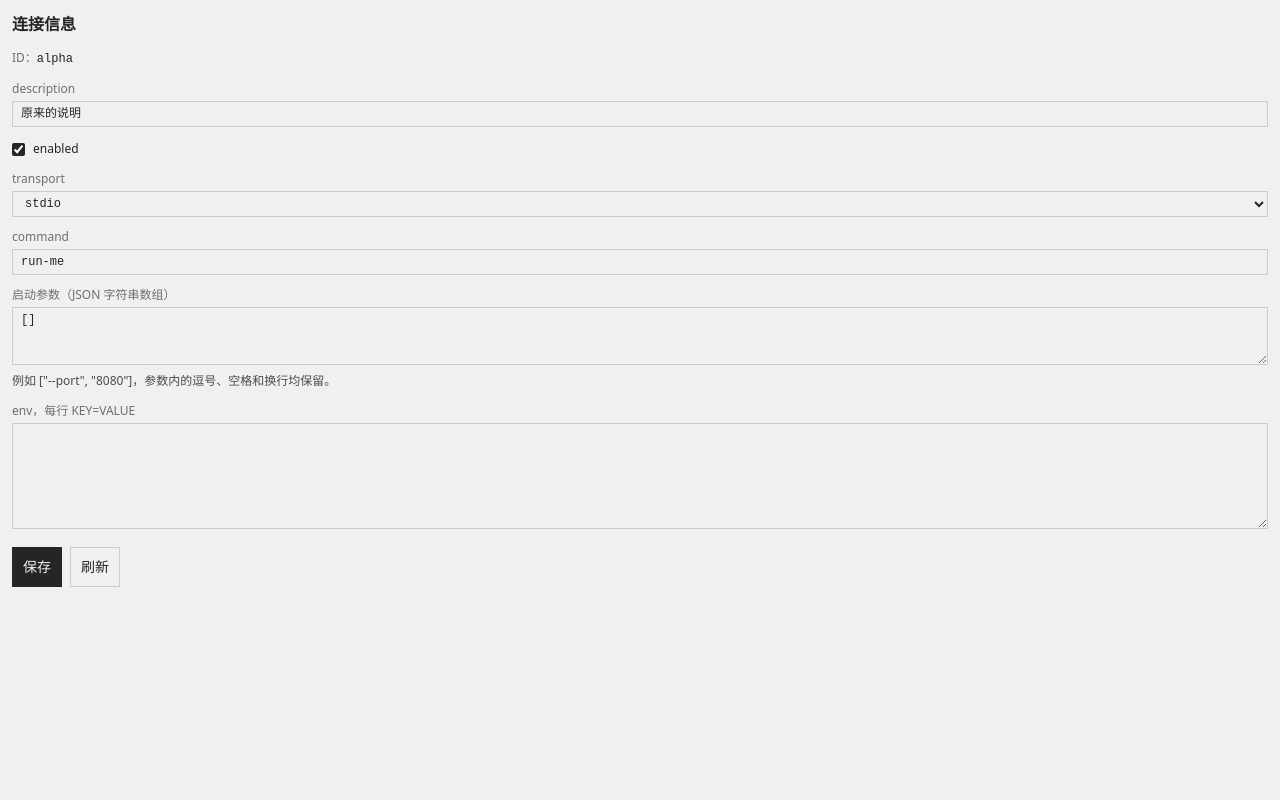
it: MCP Client 按项保存 › 这一项在打开之后被别处改过就不写，说清楚怎么办
Replace the text in the field labelled "description" with "我这边改的": x=640, y=114 12,101 -> 1268,127
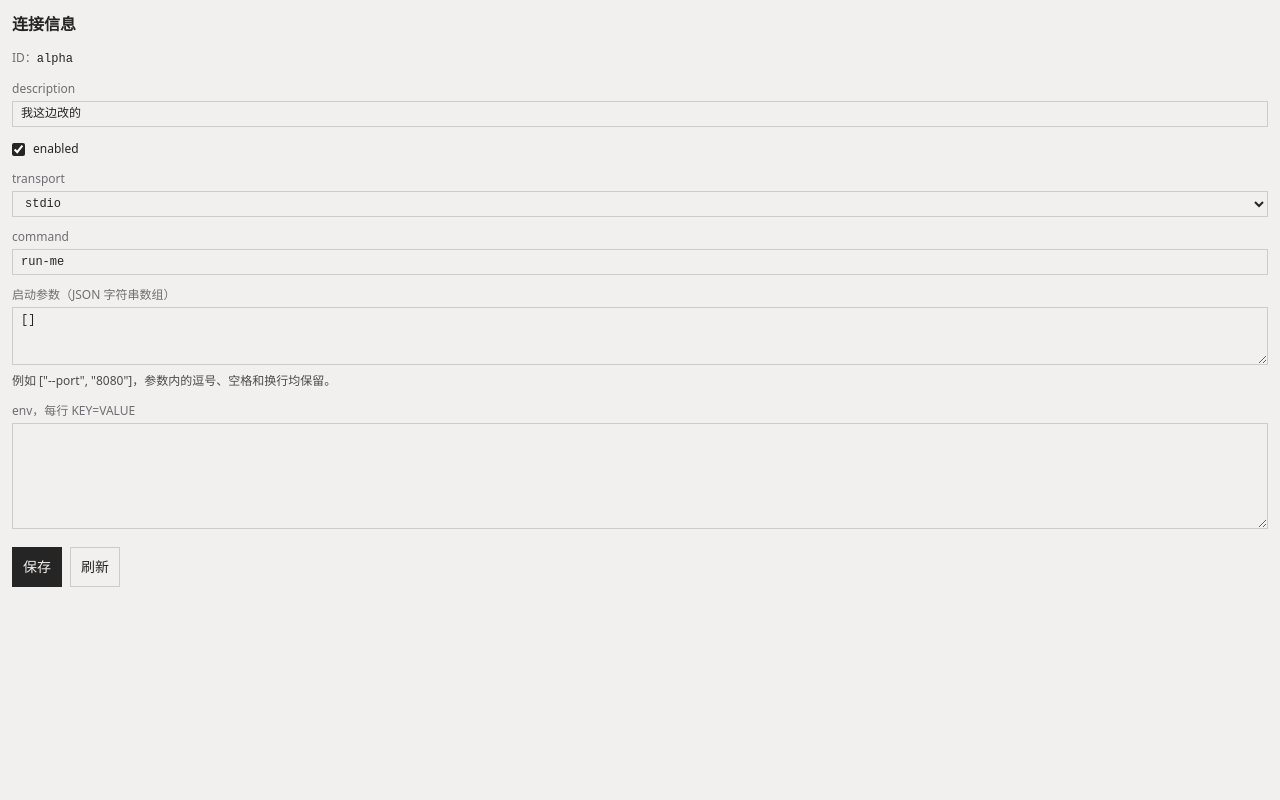
Click the button "保存": x=37, y=567 12,547 -> 62,587
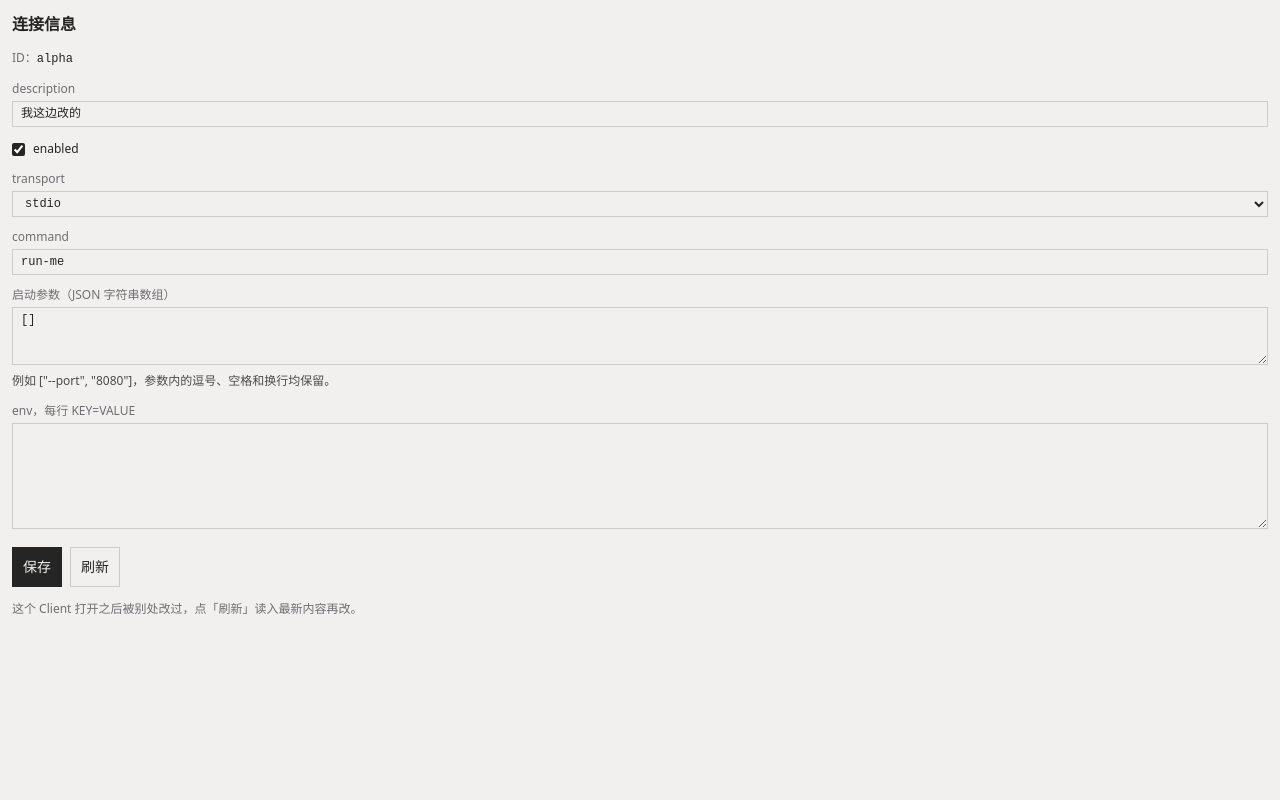
Now the text "这个 Client 打开之后被别处改过，点「刷新」读入最新内容再改。" is shown, box 12,600 -> 362,617
